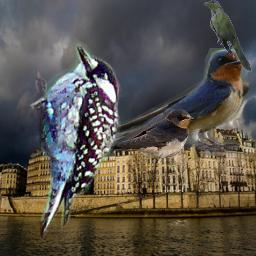Cuckoo: (203, 0, 253, 72)
Swallow: (66, 48, 252, 156), (109, 108, 194, 162)
Woodpecker: (9, 36, 133, 251)
